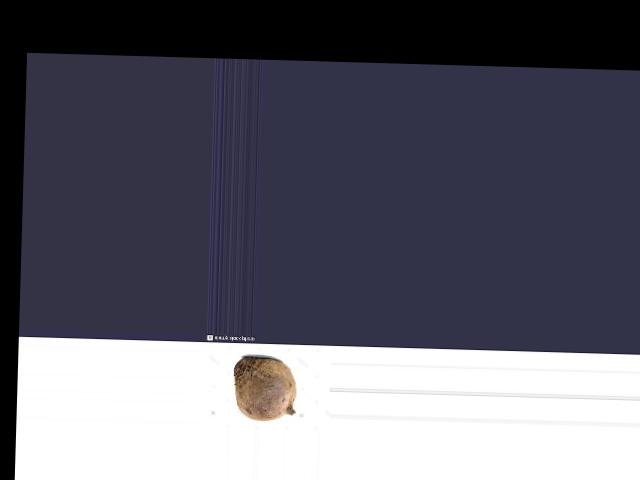beet: (233, 355, 297, 421)
